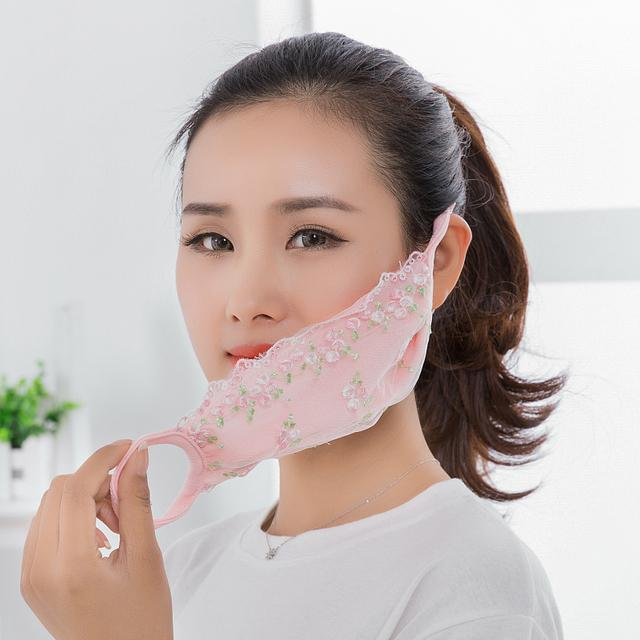WRONG: (169, 190, 413, 434)
